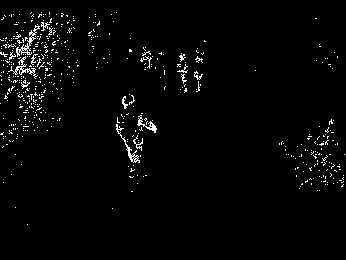person: (116, 93, 158, 179)
